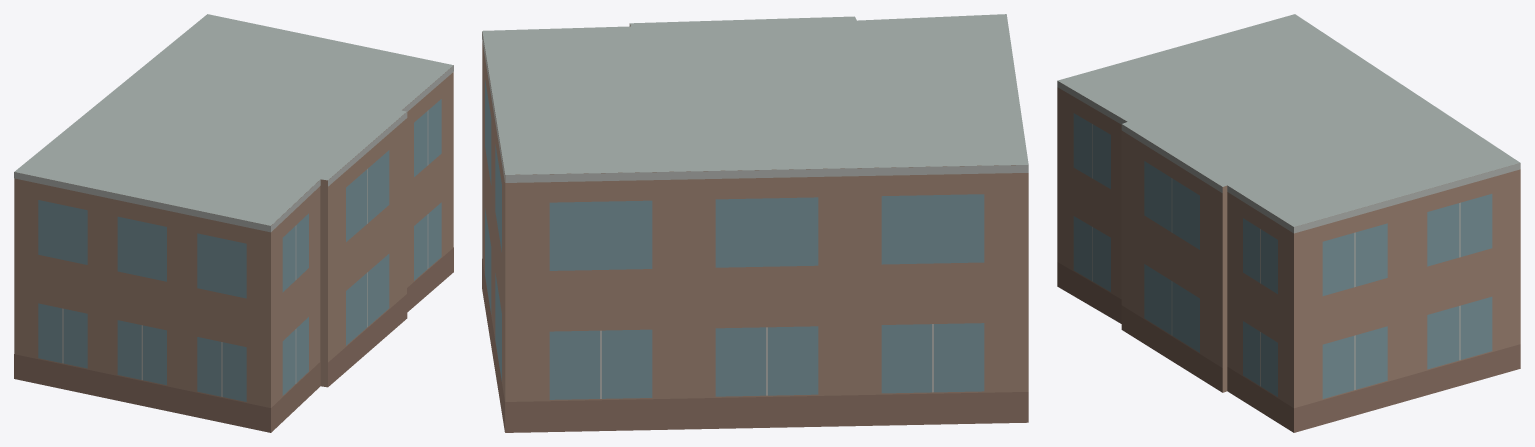
The model's file is survey-upis-32621834.glb.
3 views of the same model, side by side, from view 1: azimuth 30°, elevation 25°; view 2: azimuth 150°, elevation 25°; view 3: azimuth 270°, elevation 25° (orthographic). The views are drawn at different scales.
Parts seen in each view (by area): view 1: survey-upis-32621834.tmp; view 2: survey-upis-32621834.tmp; view 3: survey-upis-32621834.tmp.
Part boxes in pixels (box(x1,y1,x2,y2)): survey-upis-32621834.tmp: box(14, 14, 453, 432); survey-upis-32621834.tmp: box(482, 14, 1028, 432); survey-upis-32621834.tmp: box(1057, 14, 1520, 432).
Size of the model in its own units: 17.33 by 7.8 by 15.92.
